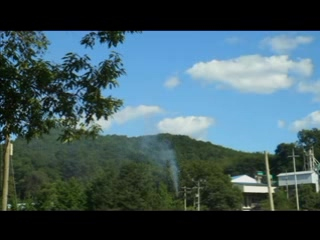smoke: (150, 137, 183, 199)
